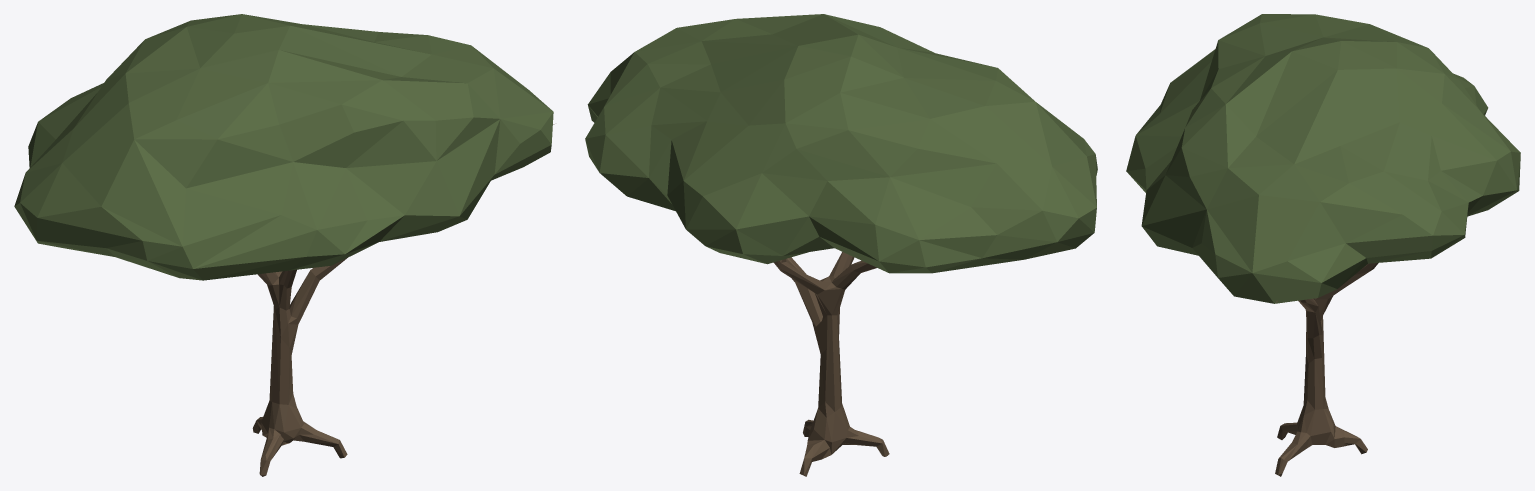
The model's file is SM_Envr_Nature_Tree_Large_10.fbx.
3 renders of one model, left to right at view 1: azimuth 30°, elevation 25°; view 2: azimuth 150°, elevation 25°; view 3: azimuth 270°, elevation 25°, orthographic. The views are drawn at different scales.
Parts seen in each view (by area): view 1: SM_Envr_Nature_Tree_Large_10; view 2: SM_Envr_Nature_Tree_Large_10; view 3: SM_Envr_Nature_Tree_Large_10.
Part boxes in pixels (box(x1,y1,x2,y2)): SM_Envr_Nature_Tree_Large_10: box(14, 14, 554, 476); SM_Envr_Nature_Tree_Large_10: box(585, 14, 1097, 476); SM_Envr_Nature_Tree_Large_10: box(1126, 14, 1520, 476).
Size of the model in its own units: 833 by 657 by 588.
